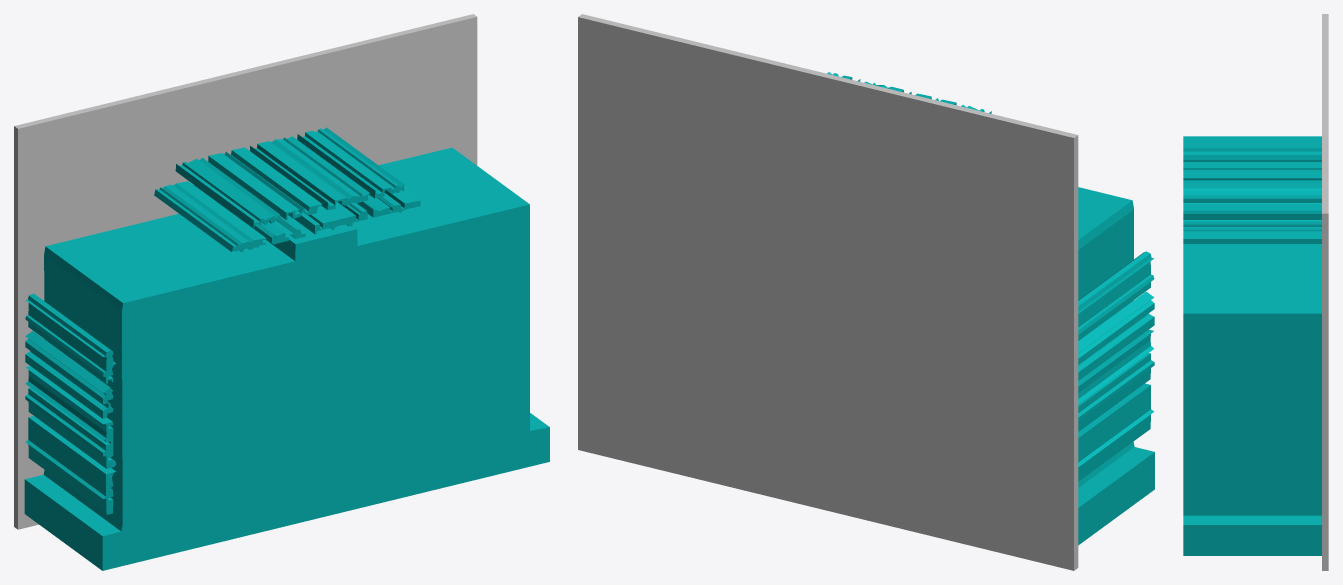
3 views of the same model, side by side, from view 1: azimuth 30°, elevation 25°; view 2: azimuth 150°, elevation 25°; view 3: azimuth 270°, elevation 25° (orthographic). The views are drawn at different scales.
Visible parts, largest first — view 1: world; view 2: world; view 3: world.
Boxes of the visible parts, box(x1,y1,x2,y2) form: world: box(14, 14, 549, 570); world: box(578, 14, 1154, 570); world: box(1183, 14, 1328, 570).
Size of the model in its own units: 10.23 by 8.53 by 3.15.
